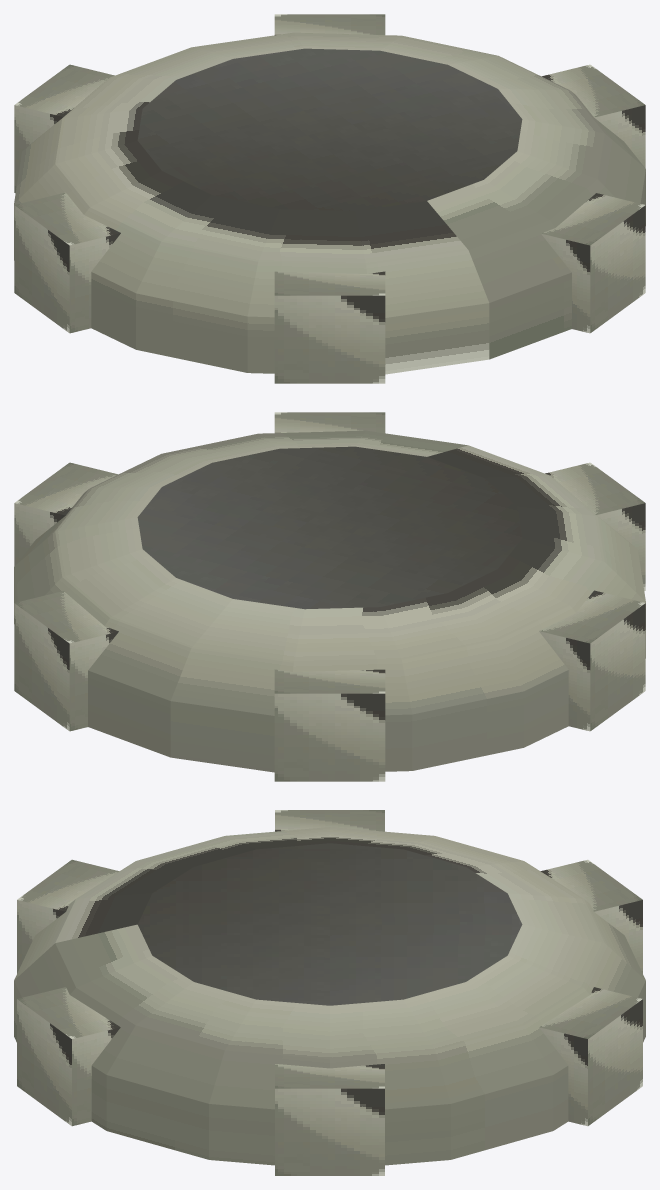
The model's file is Building_Turret_AutoInferno.glb.
3 views of the same model, one above another, from view 1: azimuth 30°, elevation 25°; view 2: azimuth 150°, elevation 25°; view 3: azimuth 270°, elevation 25° (orthographic).
Visible parts, largest first — view 1: Turret_AutoInferno; view 2: Turret_AutoInferno; view 3: Turret_AutoInferno.
Part boxes in pixels (x1=…): Turret_AutoInferno: x1=14, y1=14, x2=645, y2=383; Turret_AutoInferno: x1=14, y1=412, x2=645, y2=781; Turret_AutoInferno: x1=14, y1=810, x2=645, y2=1175.
Size of the model in its own units: 1.92 by 0.36 by 1.84.
1 material, 1 textured.
